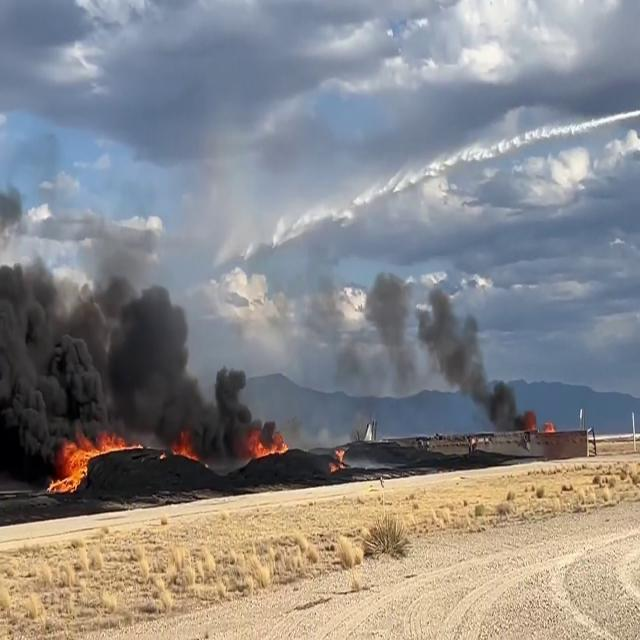Fire: (50, 432, 106, 494), (247, 424, 294, 462)
Smoke: (1, 216, 250, 479), (346, 259, 526, 438)
